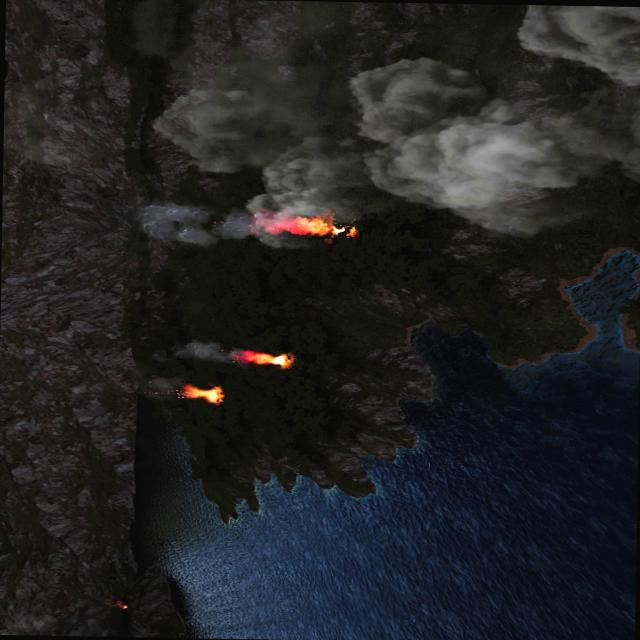fire: (273, 211, 348, 240), (242, 348, 290, 367), (180, 382, 222, 403), (121, 604, 128, 608)
smoke: (130, 0, 640, 253), (151, 339, 245, 361)
